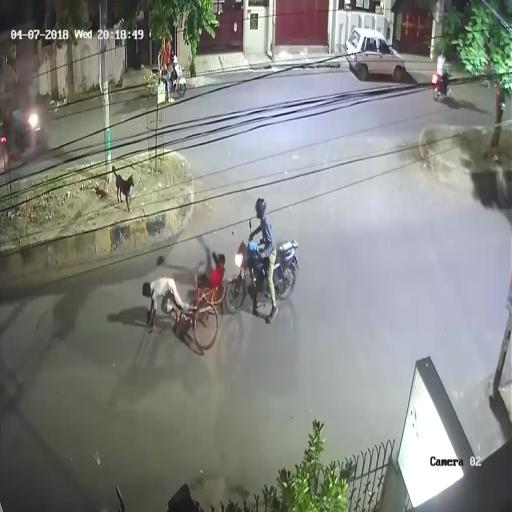小汽车: (348, 27, 407, 81)
自行车: (146, 39, 188, 101), (434, 50, 452, 106)
自行车撞自行车: (142, 197, 299, 348)
